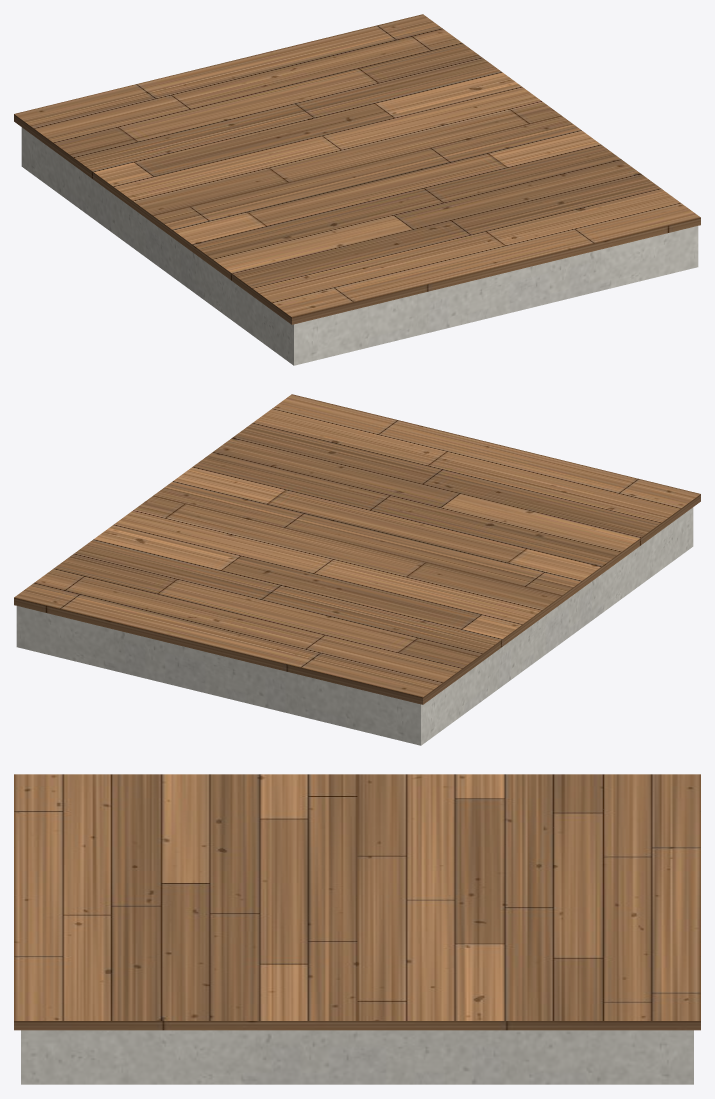
File: floor_wood_u_e0_30_0_0.glb
The picture shows the model from 3 angles, top to bottom: view 1: azimuth 30°, elevation 25°; view 2: azimuth 150°, elevation 25°; view 3: azimuth 270°, elevation 25°; orthographic projection. The views are drawn at different scales.
Visible parts, largest first — view 1: floor_wood_u_e0_30_0_0_floor, floor_wood_u_e0_30_0_0_plaster; view 2: floor_wood_u_e0_30_0_0_floor, floor_wood_u_e0_30_0_0_plaster; view 3: floor_wood_u_e0_30_0_0_floor, floor_wood_u_e0_30_0_0_plaster.
Part boxes in pixels (box(x1,y1,x2,y2)): floor_wood_u_e0_30_0_0_floor: box(14, 14, 700, 324); floor_wood_u_e0_30_0_0_plaster: box(21, 127, 698, 365); floor_wood_u_e0_30_0_0_floor: box(14, 394, 700, 704); floor_wood_u_e0_30_0_0_plaster: box(16, 507, 693, 745); floor_wood_u_e0_30_0_0_floor: box(14, 774, 700, 1030); floor_wood_u_e0_30_0_0_plaster: box(21, 1030, 693, 1084).
Size of the model in its own units: 1.7 by 0.205 by 2.
Materials: 2 (2 with a texture image).
